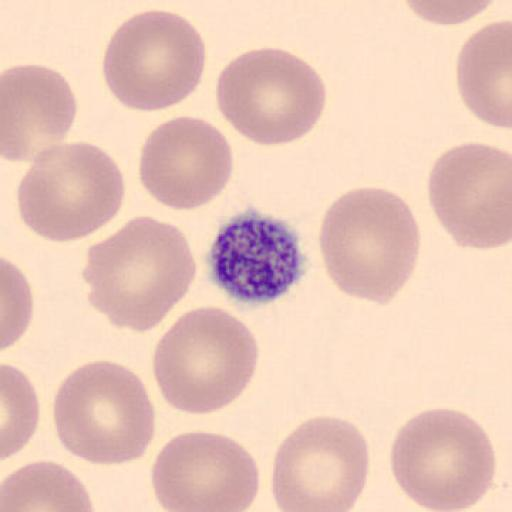Platelet: (204, 206, 311, 306)
RBC: (82, 214, 198, 334), (318, 185, 422, 307), (150, 304, 260, 417), (51, 358, 158, 467), (389, 406, 497, 512), (215, 46, 328, 147), (100, 8, 207, 114), (16, 141, 126, 243), (270, 412, 370, 512), (426, 140, 512, 251), (137, 114, 234, 212), (150, 430, 261, 512), (2, 62, 78, 165), (455, 18, 512, 130), (2, 458, 96, 512), (2, 362, 42, 460), (2, 255, 34, 353), (400, 0, 502, 27)
